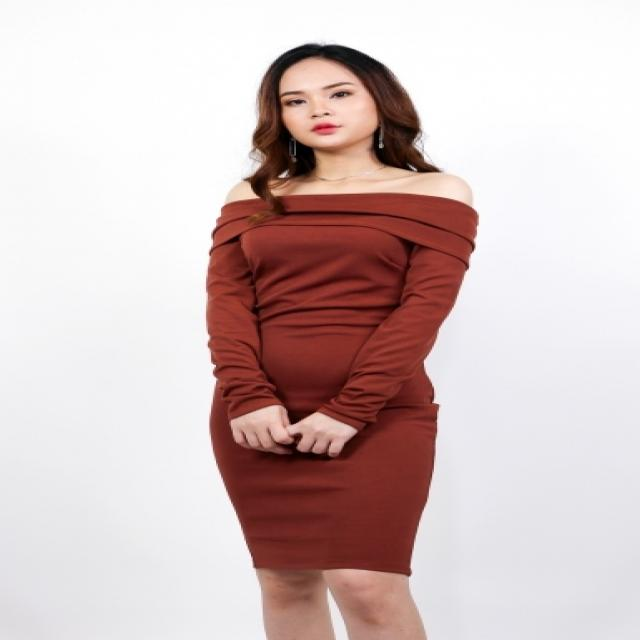clothes: (195, 175, 478, 577)
